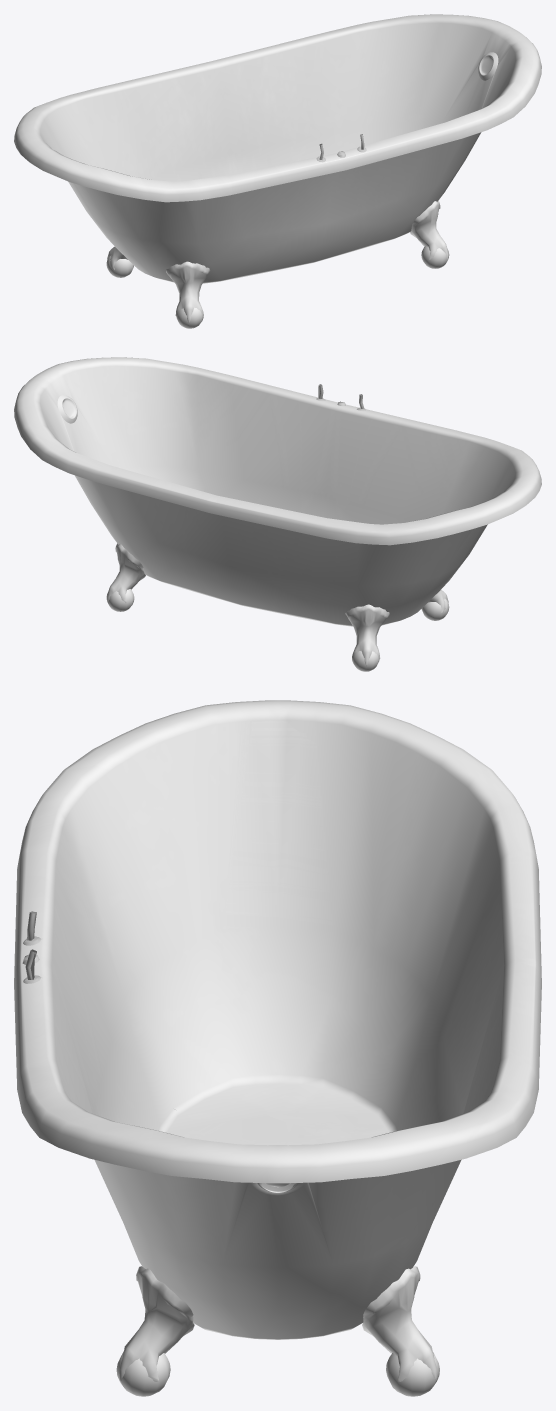
File: SM_Bath01A.fbx
3 renders of one model, top to bottom at view 1: azimuth 30°, elevation 25°; view 2: azimuth 150°, elevation 25°; view 3: azimuth 270°, elevation 25°, orthographic. The views are drawn at different scales.
Parts seen in each view (by area): view 1: SM_Bath01A; view 2: SM_Bath01A; view 3: SM_Bath01A.
Boxes of the visible parts, box(x1,y1,x2,y2) form: SM_Bath01A: box(14, 14, 541, 328); SM_Bath01A: box(14, 357, 541, 671); SM_Bath01A: box(14, 700, 541, 1396).
Bounding box in the file's own units: 140 × 66.49 × 48.91.
